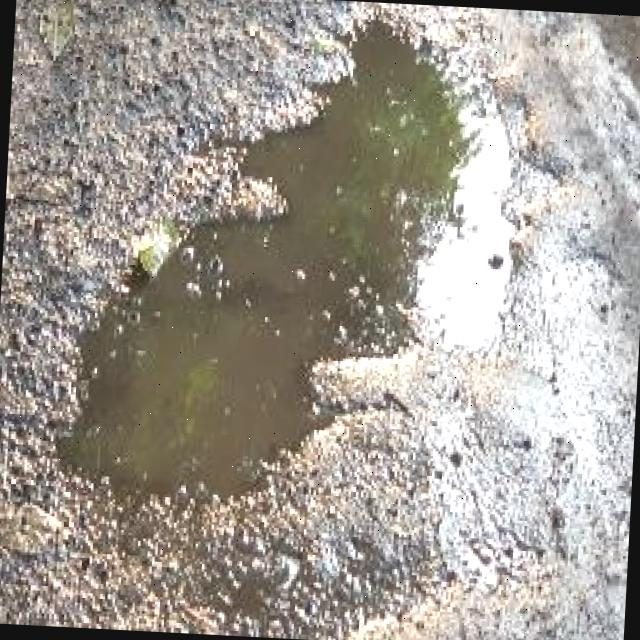stagnation: (87, 0, 476, 529)
